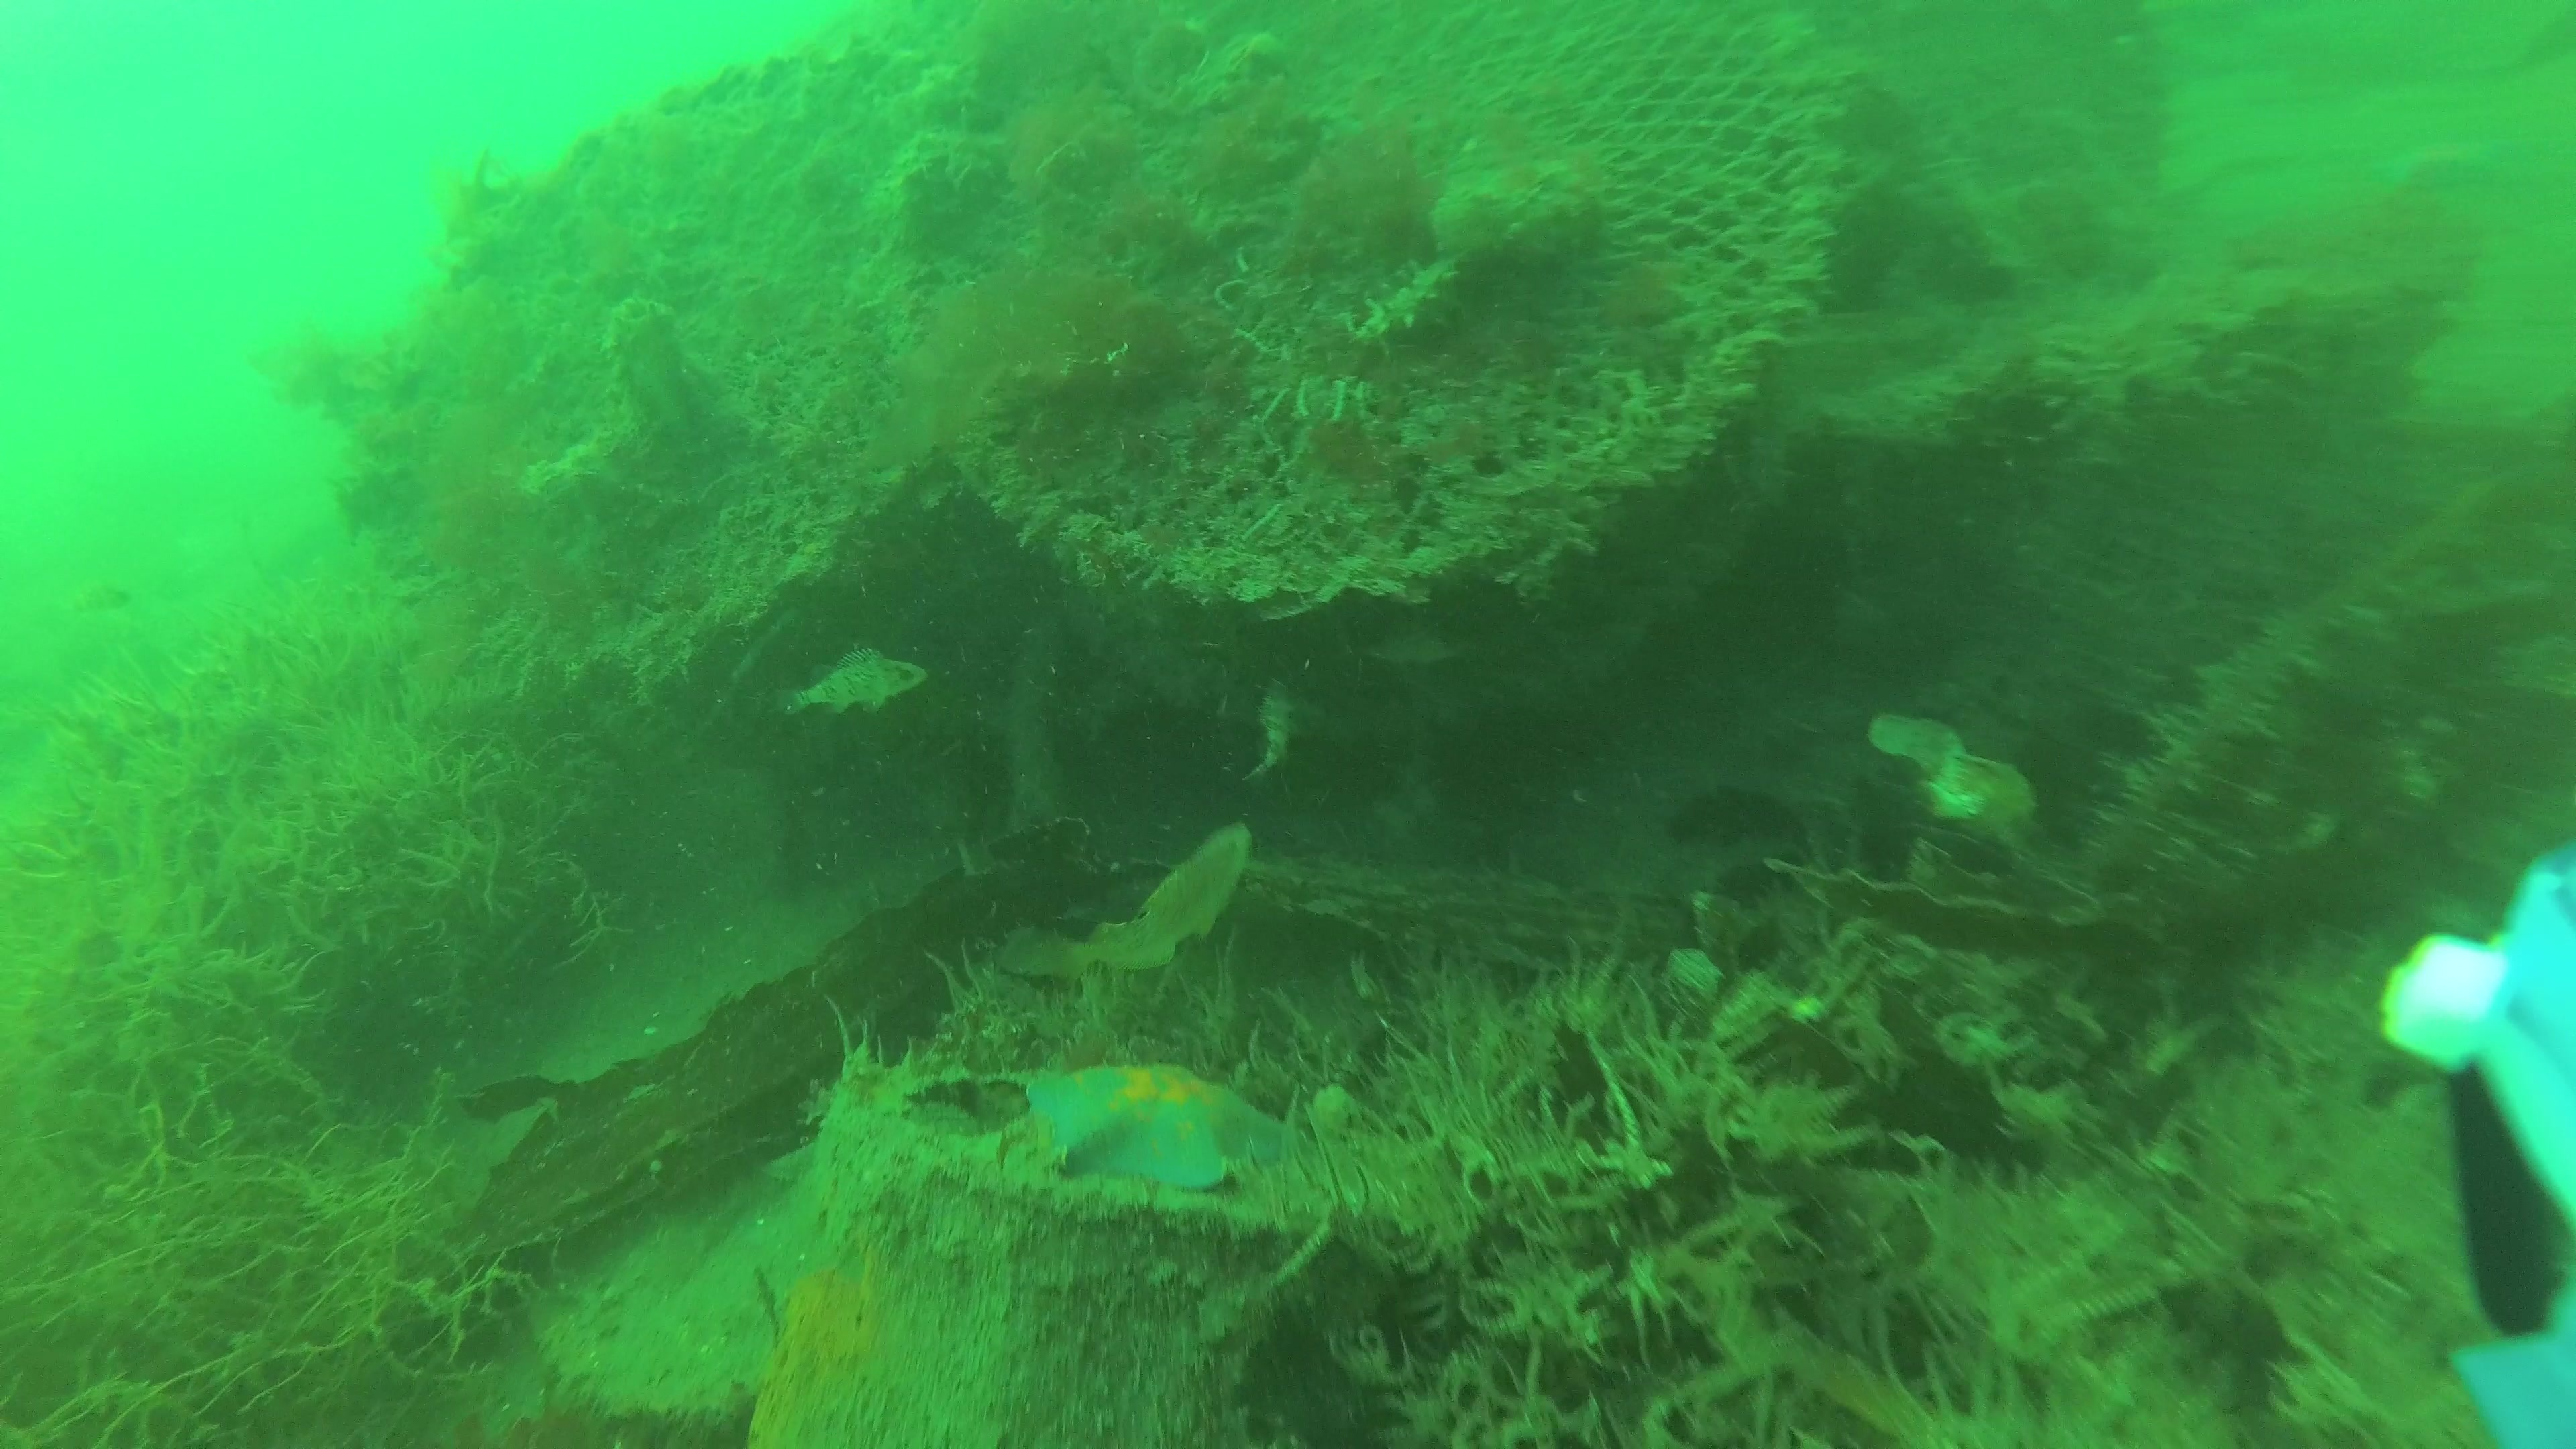holothurian: (1353, 255, 1476, 349)
starfish: (1028, 1063, 1309, 1200)
